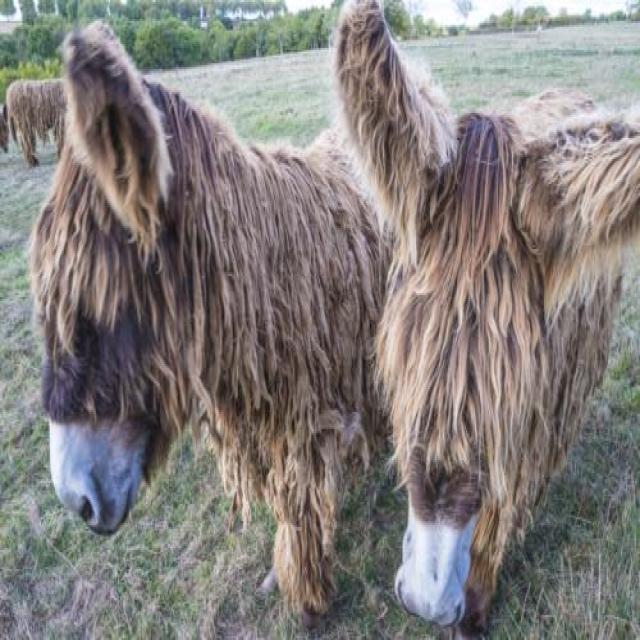Donkey: (29, 22, 403, 628), (333, 3, 640, 640), (0, 76, 78, 168)
